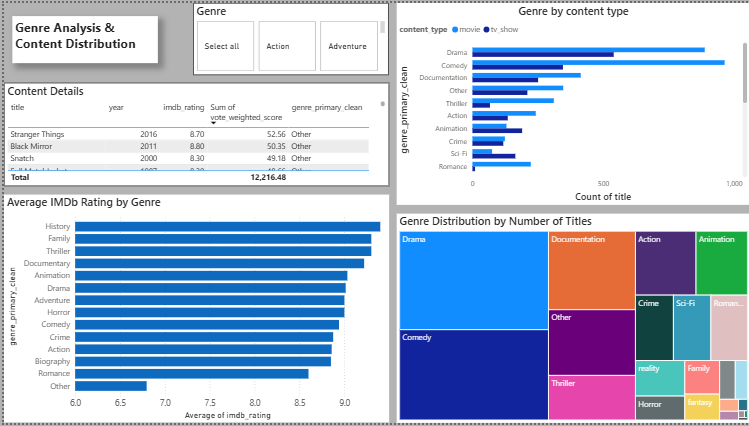

The dashboard page shown, as its layout file describes it:
{"tool":"powerbi","page":{"name":"Page 2","canvas":[1280,720],"ordinal":1},"visuals":[{"type":"barChart","title":"Average IMDb Rating by Genre","fields":{"Category":["titles.genre_primary_clean"],"Y":["Avg(titles.imdb_rating)"]},"box":[0,328.3,660.3,391.1],"z":0},{"type":"clusteredBarChart","title":"Genre by content type","fields":{"Series":["titles.content_type"],"Y":["CountNonNull(titles.title)"],"Category":["titles.genre_primary_clean"]},"box":[672.8,0,606.5,346.3],"z":1000},{"type":"tableEx","title":"Content Details","fields":{"Values":["Append1.title","Sum(Append1.year)","Sum(Append1.imdb_rating)","Sum(Append1.vote_weighted_score)","titles.genre_primary_clean"]},"box":[0,136.4,660.3,177.6],"z":2000},{"type":"advancedSlicerVisual","title":"Genre","fields":{"Values":["titles.genre_primary"]},"box":[324.8,0,335.5,123.8],"z":3000},{"type":"treemap","title":"Genre Distribution by Number of Titles","fields":{"Group":["titles.genre_primary_clean"],"Values":["CountNonNull(titles.title)"]},"box":[672.8,360.6,606.5,358.8],"z":4000},{"type":"textbox","box":[14.4,21.5,249.4,80.7],"z":5000}]}

Visuals, with their boxes in screenshot pixels (x1, y1, x2, y2), scaled from the page's 1280x720 canvas onto the 749x426 screenshot:
"Average IMDb Rating by Genre" barChart: pyautogui.locateOnScreen(0, 194, 386, 425)
"Genre by content type" clusteredBarChart: pyautogui.locateOnScreen(394, 0, 748, 205)
"Content Details" tableEx: pyautogui.locateOnScreen(0, 81, 386, 186)
"Genre" advancedSlicerVisual: pyautogui.locateOnScreen(190, 0, 386, 73)
"Genre Distribution by Number of Titles" treemap: pyautogui.locateOnScreen(394, 213, 748, 425)
textbox: pyautogui.locateOnScreen(8, 13, 154, 60)
